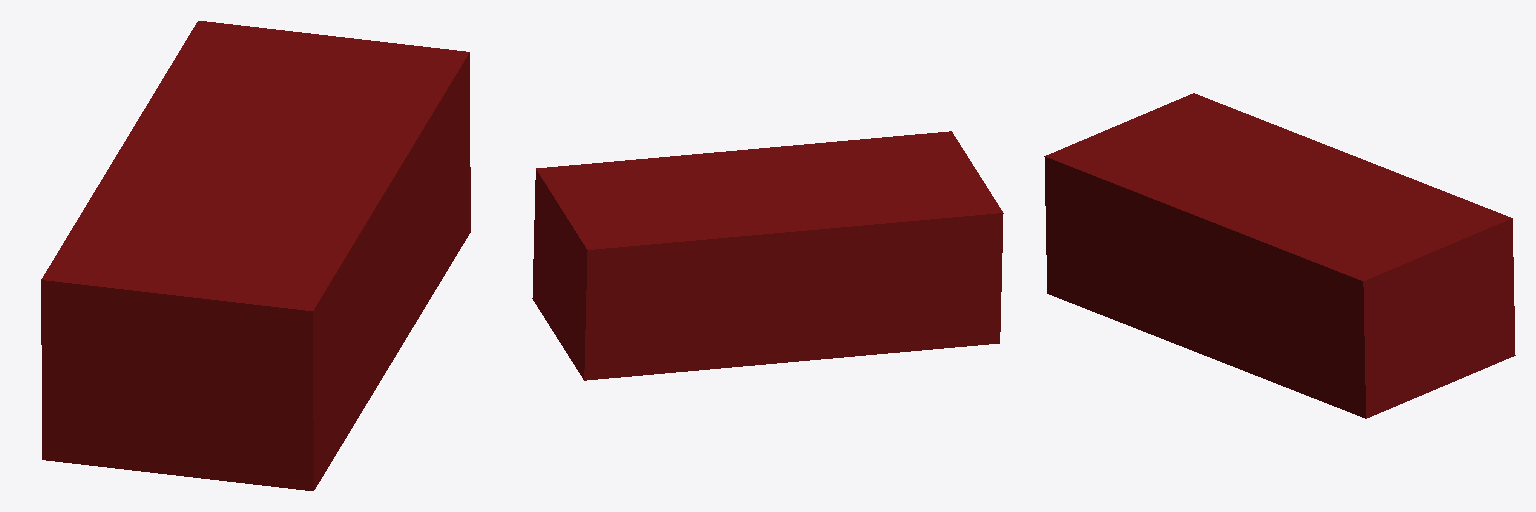
The robot description file, URDF, robot "baxter":
<?xml version="1.0" ?>
<robot name="baxter">
  <link name="base">
  </link>
  <link name="right_arm_mount">
    <inertial>
      <origin rpy="0 0 0" xyz="0 0 0"/>
      <mass value="0.00094542"/>
      <inertia ixx="2e-08" ixy="0" ixz="0" iyy="3e-08" iyz="0" izz="2e-08"/>
    </inertial>
  </link>
  <link name="right_upper_shoulder">
    <collision>
      <origin rpy="0 0 0" xyz="0 0 0.1361"/>
      <geometry>
        <cylinder length="0.2722" radius="0.06"/>
      </geometry>
    </collision>
    <inertial>
      <origin rpy="0 0 0" xyz="0.01783 0.00086 0.19127"/>
      <mass value="5.70044"/>
      <inertia ixx="0.04709102262" ixy="0.00012787556" ixz="0.00614870039" iyy="0.03766976455" iyz="0.00078086899" izz="0.03595988478"/>
    </inertial>
  </link>
  <link name="right_lower_shoulder">
    <collision>
      <origin rpy="0 0 0" xyz="0 0 0"/>
      <geometry>
        <cylinder length="0.12" radius="0.06"/>
      </geometry>
    </collision>
    <inertial>
      <origin rpy="0 0 0" xyz="0.06845 0.00269 -0.00529"/>
      <mass value="3.22698"/>
      <inertia ixx="0.01175209419" ixy="-0.00030096398" ixz="0.00207675762" iyy="0.0278859752" iyz="-0.00018821993" izz="0.02078749298"/>
    </inertial>
  </link>
  <link name="right_upper_elbow">
    <collision>
      <origin rpy="0 0 0" xyz="0 0 -0.0535"/>
      <geometry>
        <cylinder length="0.107" radius="0.06"/>
      </geometry>
    </collision>
    <inertial>
      <origin rpy="0 0 0" xyz="-0.00276 0.00132 0.18086"/>
      <mass value="4.31272"/>
      <inertia ixx="0.02661733557" ixy="0.00029270634" ixz="0.00392189887" iyy="0.02844355207" iyz="0.0010838933" izz="0.01248008322"/>
    </inertial>
  </link>
  <link name="right_lower_elbow">
    <collision>
      <origin rpy="0 0 0" xyz="0.0 0.0 0.0"/>
      <geometry>
        <cylinder length="0.10" radius="0.06"/>
      </geometry>
    </collision>
    <inertial>
      <origin rpy="0 0 0" xyz="0.02611 0.00159 -0.01117"/>
      <mass value="2.07206"/>
      <inertia ixx="0.00711582686" ixy="0.00036036173" ixz="0.0007459496" iyy="0.01318227876" iyz="-0.00019663418" izz="0.00926852064"/>
    </inertial>
  </link>
  <link name="right_upper_forearm">
    <collision>
      <origin rpy="0 0 0" xyz="0 0 -0.044"/>
      <geometry>
        <cylinder length="0.088" radius="0.06"/>
      </geometry>
    </collision>
    <inertial>
      <origin rpy="0 0 0" xyz="-0.00168 0.0046 0.13952"/>
      <mass value="2.24665"/>
      <inertia ixx="0.01667742825" ixy="0.00018403705" ixz="0.00018657629" iyy="0.01675457264" iyz="-0.00064732352" izz="0.0037463115"/>
    </inertial>
  </link>
  <link name="right_lower_forearm">
    <collision>
      <origin rpy="0 0 0" xyz="0 0 0"/>
      <geometry>
        <cylinder length="0.10" radius="0.06"/>
      </geometry>
    </collision>
    <inertial>
      <origin rpy="0 0 0" xyz="0.06041 0.00697 0.006"/>
      <mass value="1.60979"/>
      <inertia ixx="0.00387607152" ixy="-0.00044384784" ixz="-0.00021115038" iyy="0.00700537914" iyz="0.00015348067" izz="0.0055275524"/>
    </inertial>
  </link>
  <link name="right_wrist">
    <collision>
      <origin rpy="0 0 0" xyz="0 0 0"/>
      <geometry>
        <cylinder length="0.165" radius="0.06"/>
      </geometry>
    </collision>
    <inertial>
      <origin rpy="0 0 0" xyz="0.00198 0.00125 0.01855"/>
      <mass value="0.35093"/>
      <inertia ixx="0.00025289155" ixy="0.00000575311" ixz="-0.00000159345" iyy="0.0002688601" iyz="-0.00000519818" izz="0.0003074118"/>
    </inertial>
  </link>
  <link name="right_hand">
    <collision>
      <origin rpy="0 0 0" xyz="0 0 -0.0232"/>
      <geometry>
        <cylinder length="0.0464" radius="0.04"/>
      </geometry>
    </collision>
    <inertial>
      <origin rpy="0 0 0" xyz="0.01093 0.00042 -0.01532"/>
      <mass value="0.19125"/>
      <inertia ixx="0.00017588" ixy="0.00000147073" ixz="0.0000243633" iyy="0.00021166377" iyz="0.00000172689" izz="0.00023745397"/>
    </inertial>
  </link>
  <link name="right_gripper">
    <visual>
      <origin rpy="0 0 0" xyz="0 0 -0.02"/>
      <geometry>
        <box size="0.025 0.075 0.035"/>
      </geometry>
      <material name="darkred">
        <color rgba=".5 .1 .1 1"/>
      </material>
    </visual>
    <inertial>
      <origin rpy="0 0 0" xyz="0.000000 0.000000 0.000000"/>
      <mass value="0.00094542"/>
      <inertia ixx="2e-08" ixy="0" ixz="0" iyy="3e-08" iyz="0" izz="2e-08"/>
    </inertial>
  </link>
    <joint name="right_torso_arm_mount" type="fixed">
      <origin rpy="0.0244779255694 0.00206775078845 -0.786901886075" xyz="0.0230600028897 -0.220386190561 0.107439506778"/>
      <parent link="base"/>
      <axis xyz="0 0 0" />
      <child link="right_arm_mount"/>
    </joint>
  <joint name="right_s0" type="revolute">
    <origin rpy="0 0 0" xyz="0.055695 0 0.011038"/>
    <axis xyz="0 0 1"/>
    <parent link="right_arm_mount"/>
    <child link="right_upper_shoulder"/>
    <limit effort="60.0" lower="-1.70167993878" upper="1.70167993878" velocity="2.5"/>
    <dynamics damping="0.7" friction="0.0"/>
  </joint>
  <joint name="right_s1" type="revolute">
    <origin rpy="-1.57079632679 0 0" xyz="0.069 0 0.27035"/>
    <axis xyz="0 0 1"/>
    <parent link="right_upper_shoulder"/>
    <child link="right_lower_shoulder"/>
    <limit effort="60.0" lower="-2.147" upper="1.047" velocity="2.5"/>
    <dynamics damping="0.7" friction="0.0"/>
  </joint>
  <joint name="right_e0" type="revolute">
    <origin rpy="1.57079632679 0 1.57079632679" xyz="0.102 0 0"/>
    <axis xyz="0 0 1"/>
    <parent link="right_lower_shoulder"/>
    <child link="right_upper_elbow"/>
    <limit effort="60.0" lower="-3.05417993878" upper="3.05417993878" velocity="2.5"/>
    <dynamics damping="0.7" friction="0.0"/>
  </joint>
  <joint name="right_e1" type="revolute">
    <origin rpy="-1.57079632679 -1.57079632679 0" xyz="0.069 0 0.26242"/>
    <axis xyz="0 0 1"/>
    <parent link="right_upper_elbow"/>
    <child link="right_lower_elbow"/>
    <limit effort="60.0" lower="-0.05" upper="2.618" velocity="2.5"/>
    <dynamics damping="0.7" friction="0.0"/>
  </joint>
  <joint name="right_w0" type="revolute">
    <origin rpy="1.57079632679 0 1.57079632679" xyz="0.10359 0 0"/>
    <axis xyz="0 0 1"/>
    <parent link="right_lower_elbow"/>
    <child link="right_upper_forearm"/>
    <limit effort="20.0" lower="-3.059" upper="3.059" velocity="5.0"/>
    <dynamics damping="0.7" friction="0.0"/>
  </joint>
  <joint name="right_w1" type="revolute">
    <origin rpy="-1.57079632679 -1.57079632679 0" xyz="0.01 0 0.2707"/>
    <axis xyz="0 0 1"/>
    <parent link="right_upper_forearm"/>
    <child link="right_lower_forearm"/>
    <limit effort="20.0" lower="-1.57079632679" upper="2.094" velocity="5.0"/>
    <dynamics damping="0.7" friction="0.0"/>
  </joint>
  <joint name="right_w2" type="revolute">
    <origin rpy="1.57079632679 0 1.57079632679" xyz="0.115975 0 0"/>
    <axis xyz="0 0 1"/>
    <parent link="right_lower_forearm"/>
    <child link="right_wrist"/>
    <limit effort="20.0" lower="-3.059" upper="3.059" velocity="5.0"/>
    <dynamics damping="0.7" friction="0.0"/>
  </joint>
  <joint name="right_hand" type="fixed">
    <origin rpy="0 0 0" xyz="0 0 0.11355"/>
    <axis xyz="0 0 1"/>
    <parent link="right_wrist"/>
    <child link="right_hand"/>
    <dynamics damping="0.7" friction="0.0"/>
  </joint>
  <joint name="right_endpoint" type="fixed">
    <origin rpy="0 0 0" xyz="0.0 0 0.05"/>
    <parent link="right_hand"/>
    <child link="right_gripper"/>
  </joint>
</robot>

--- Render facts (derived) ---
3 views of the same robot in one strip: view 1: azimuth 30°, elevation 25°; view 2: azimuth 150°, elevation 25°; view 3: azimuth 270°, elevation 25° (orthographic).
Robot: baxter — 11 links, 10 joints (7 revolute, 3 fixed); root link base; default pose: all joints at 0.
Visible links, largest first — view 1: right_gripper; view 2: right_gripper; view 3: right_gripper.
Boxes of the visible links, x1,y1,x2,y2 form: right_gripper: [41, 21, 470, 490]; right_gripper: [532, 131, 1003, 380]; right_gripper: [1044, 93, 1515, 418].
Size in the robot's own frame: 0.0782 by 0.0782 by 0.0269 metres.
Geometry: primitives only (box / cylinder / sphere), no mesh files.